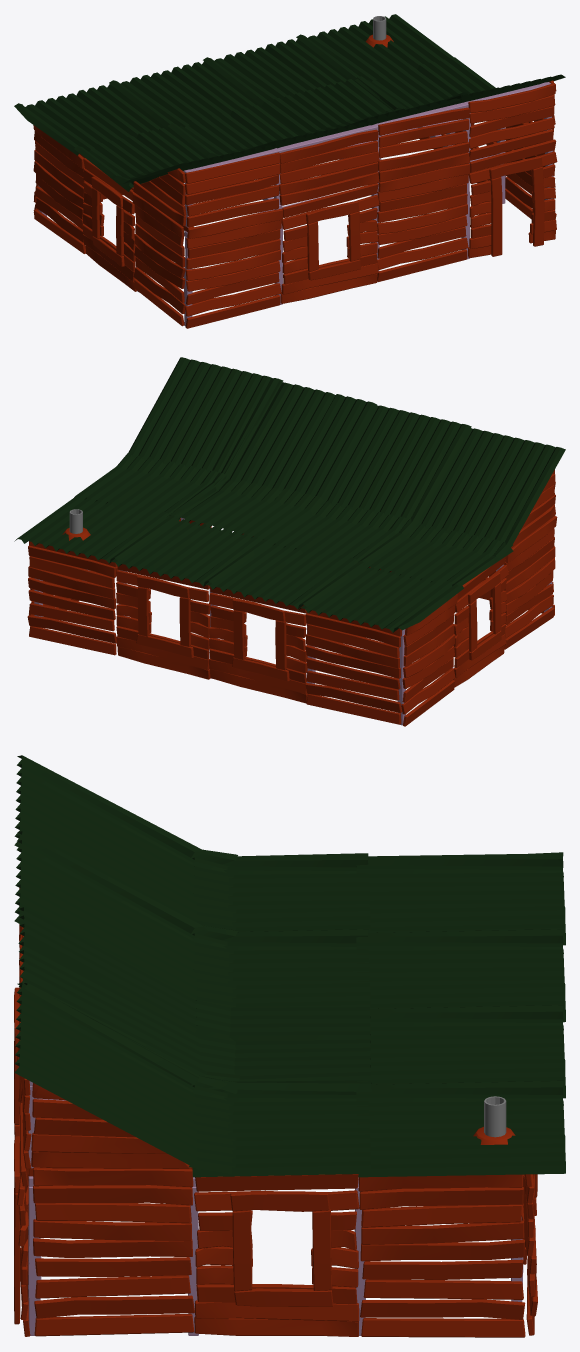
Rendered from Cuissine02.fbx.
3 views of the same model, one above another, from view 1: azimuth 30°, elevation 25°; view 2: azimuth 150°, elevation 25°; view 3: azimuth 270°, elevation 25° (orthographic). The views are drawn at different scales.
Visible parts, largest first — view 1: Cuissine02; view 2: Cuissine02; view 3: Cuissine02.
Boxes of the visible parts, box(x1,y1,x2,y2) form: Cuissine02: box(14, 14, 565, 328); Cuissine02: box(14, 357, 565, 726); Cuissine02: box(14, 755, 565, 1337).
Size of the model in its own units: 1075 by 446 by 796.
